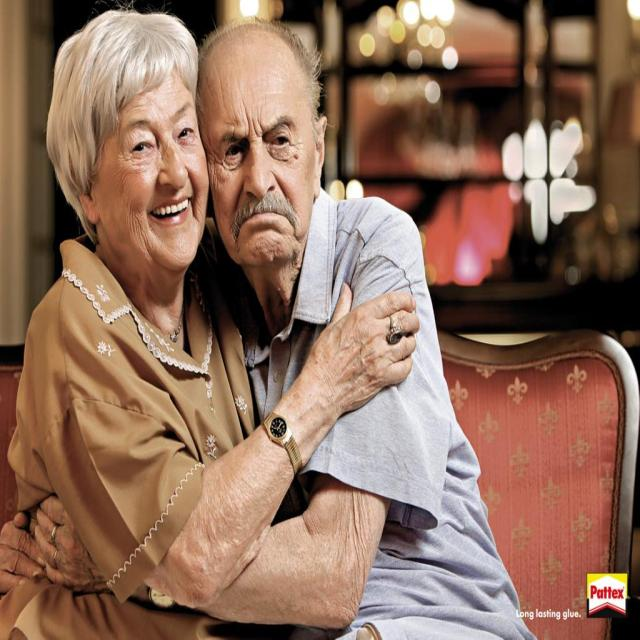Face: (197, 30, 320, 279), (95, 61, 204, 274)
